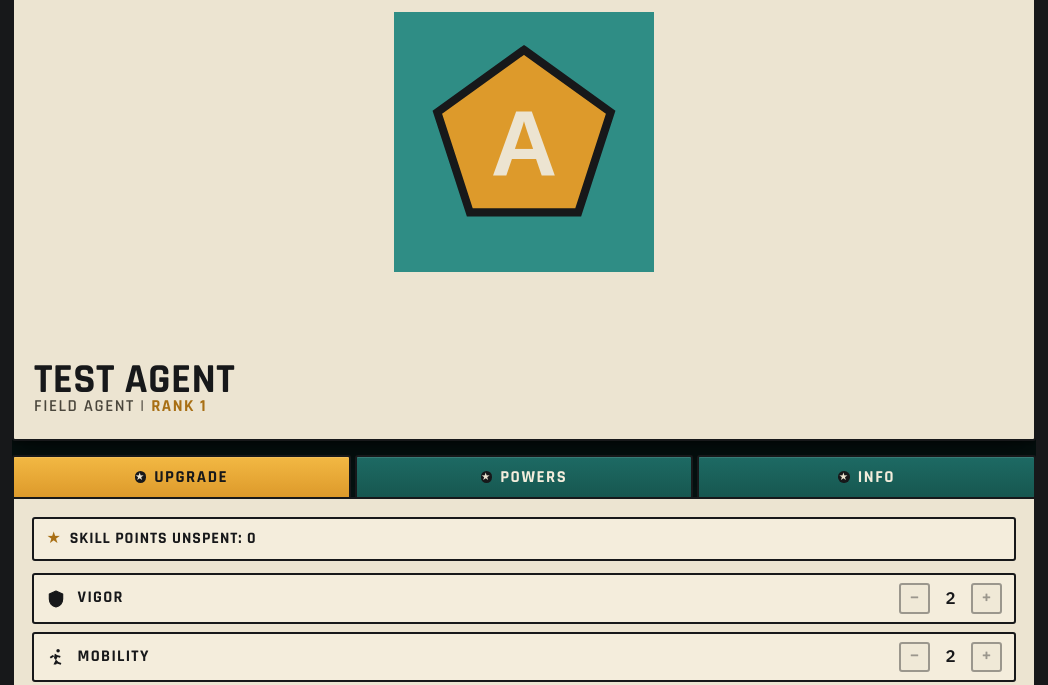
Test: CharacterSheet - powers and info tabs › shows notes and flight badges on the powers tab
Step 1. Click the button "★ Powers" → click(524, 476), box [355,455,693,497]
(page scrolled)
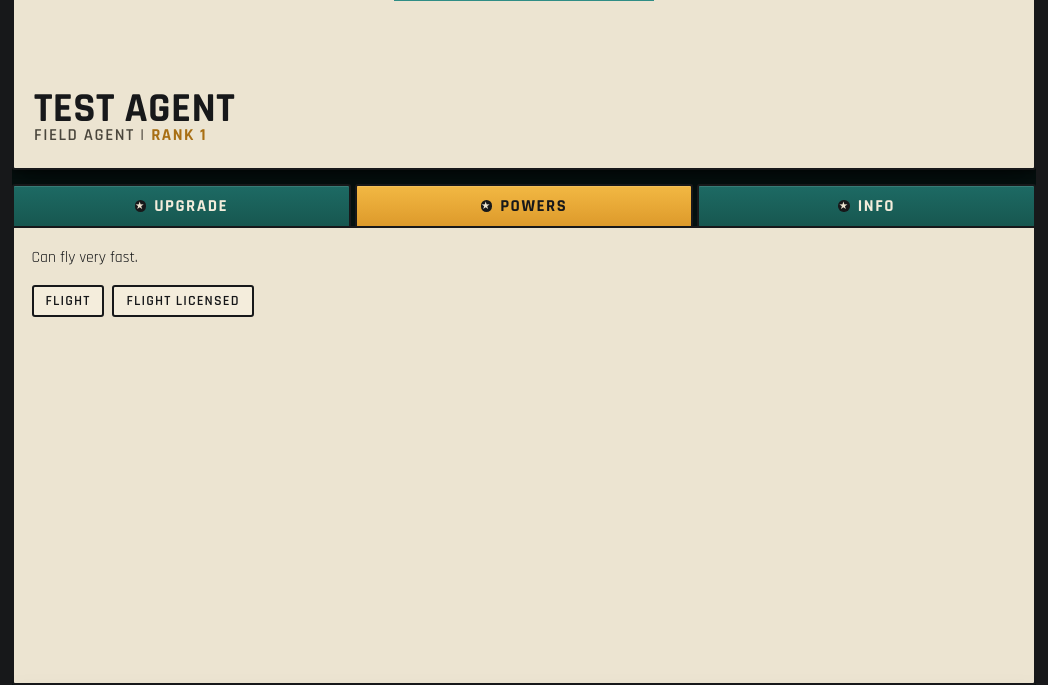
Expected: the text "Can fly very fast." is shown, [32,247,138,267]
Expected: the text "Flight" is shown, [32,285,104,317]
Expected: the text "Flight Licensed" is shown, [112,285,254,317]
